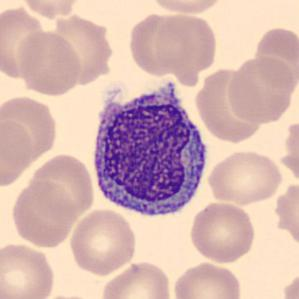Monocyte: (89, 77, 216, 224)
RBC: (224, 54, 297, 126), (195, 68, 262, 145), (67, 207, 139, 276), (42, 12, 114, 81), (9, 178, 77, 248), (205, 147, 285, 206), (28, 151, 96, 220), (16, 28, 83, 97), (125, 9, 191, 77), (187, 200, 257, 264), (0, 92, 61, 165), (153, 10, 219, 74), (0, 3, 48, 78), (0, 241, 57, 299), (250, 23, 298, 91), (98, 258, 174, 299), (170, 260, 244, 299), (0, 115, 35, 189), (270, 183, 299, 245), (16, 0, 86, 19), (145, 0, 225, 16), (281, 120, 299, 180), (280, 267, 298, 299), (31, 293, 102, 299)
